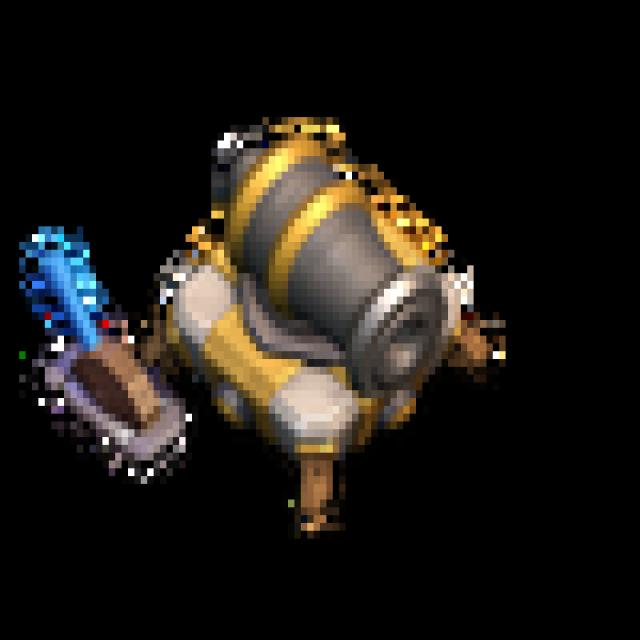cannon: (19, 75, 518, 573)
